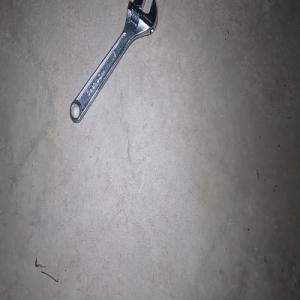Wrench: (69, 0, 157, 122)
